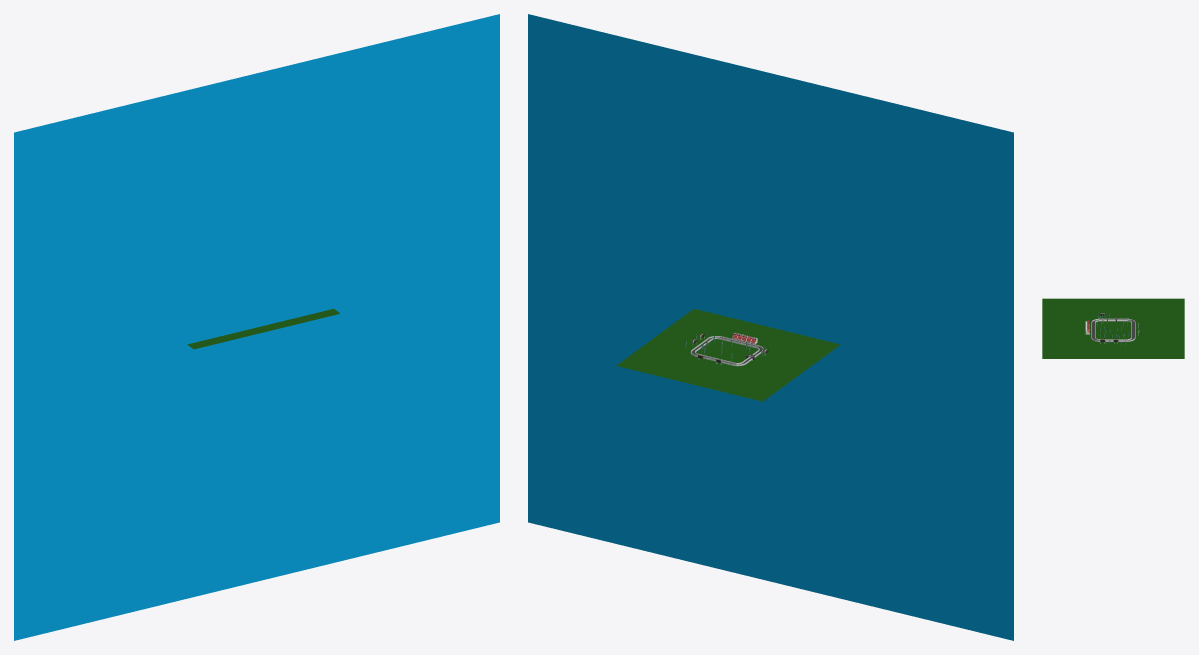
File: recordtrack.fbx
3 renders of one model, left to right at view 1: azimuth 30°, elevation 25°; view 2: azimuth 150°, elevation 25°; view 3: azimuth 270°, elevation 25°, orthographic. The views are drawn at different scales.
Visible parts, largest first — view 1: Plane__1_, Plane; view 2: Plane__1_, Plane; view 3: Plane.
Part boxes in pixels (x1,y1,x2,y2): Plane__1_: (14,14,499,640); Plane: (187,309,339,349); Plane__1_: (528,14,1013,640); Plane: (616,309,840,401); Plane: (1042,298,1184,358).
Bounding box in the file's own units: 10650 × 10650 × 3220.
Materials: 25 (1 with a texture image).
